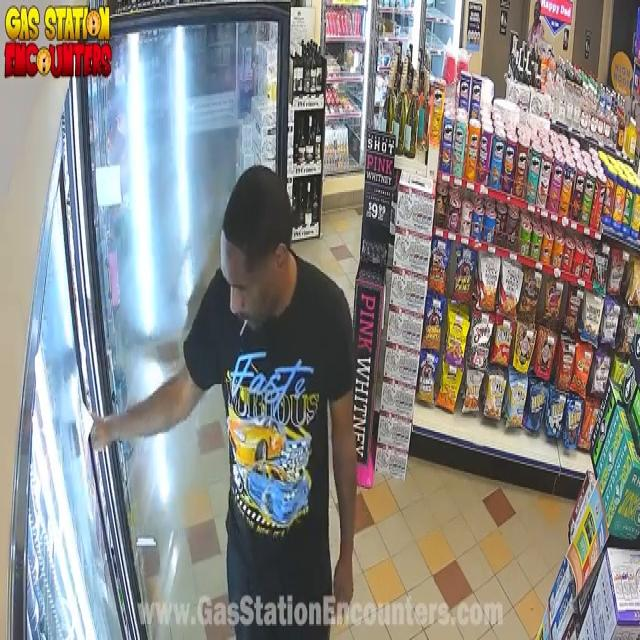hands: (92, 364, 203, 448), (332, 400, 355, 615)
person: (92, 169, 356, 638)
